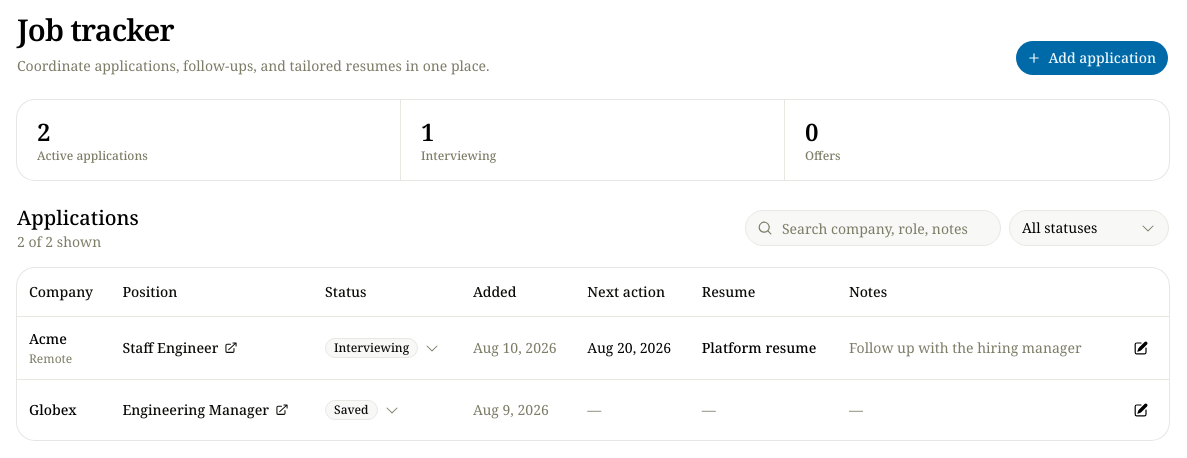
Scenario: JobPageClient › filters applications by a user-entered search
Type "globex" into the field named "Search applications" at [873, 228], box [745,210,1001,246]
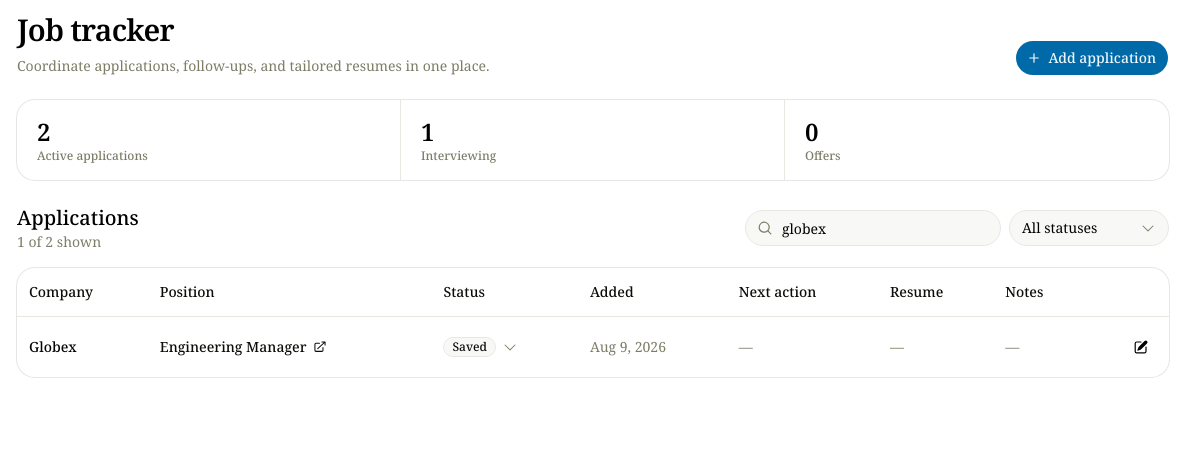
Expected: the text "Globex" is shown, [29,336,77,356]
Expected: the text "Acme" is gone
